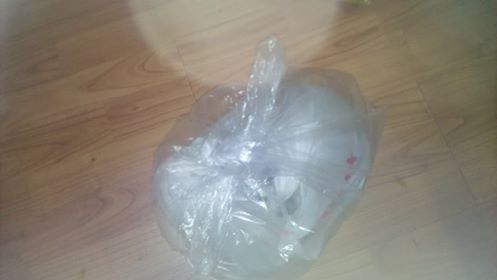plastic bag: (146, 35, 382, 280)
